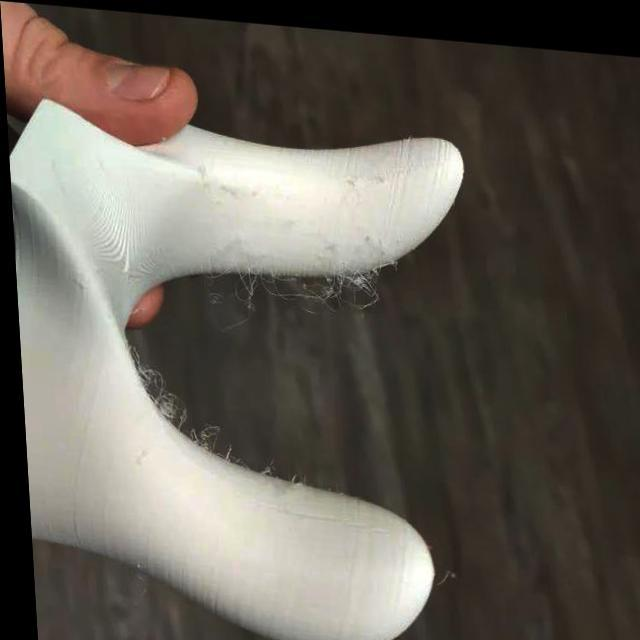stringing: (340, 260, 376, 292), (308, 266, 341, 300), (233, 264, 258, 306), (150, 384, 177, 418), (190, 422, 221, 446), (135, 360, 157, 390)
